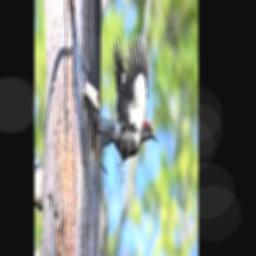Woodpecker: (97, 34, 159, 187)
